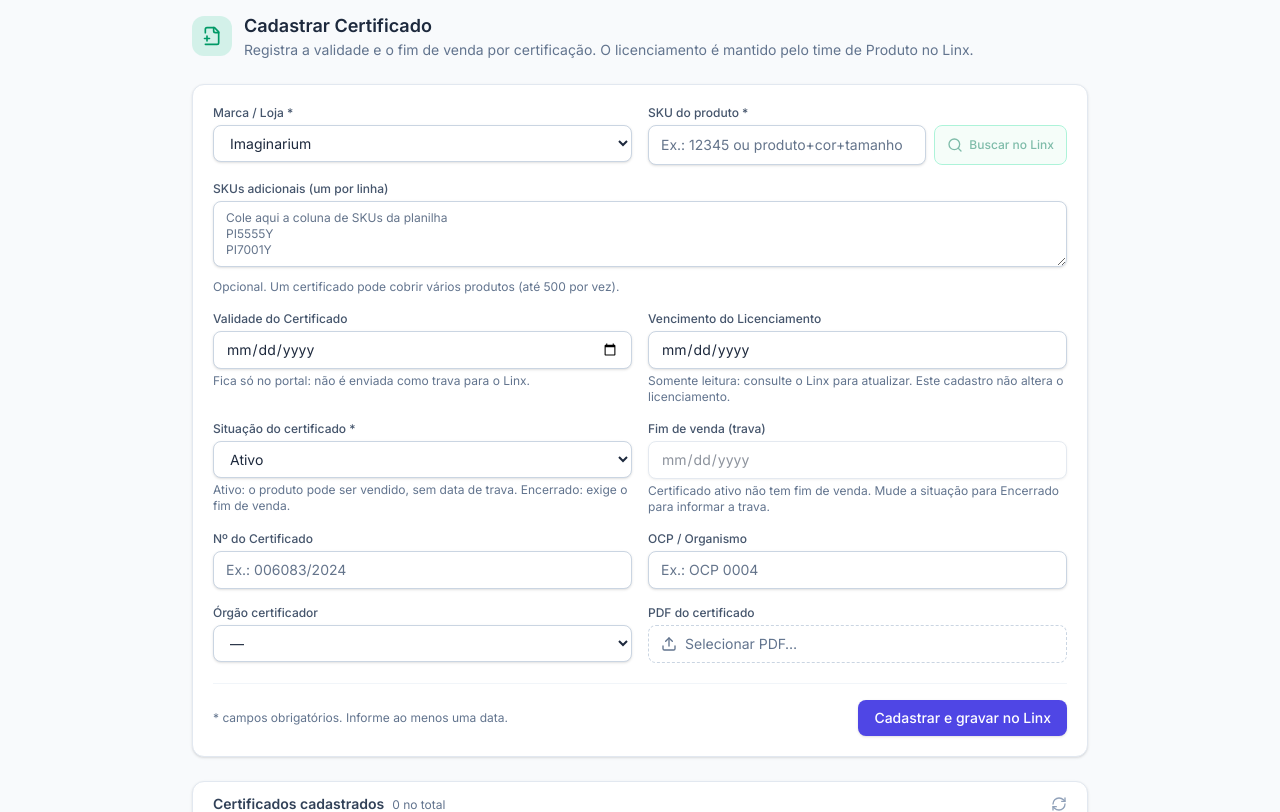
Test: CertCadastroPage Linx lookup › não usa o fim de venda legado do Linx para preencher a validade
The width and height of the screenshot is (1280, 812).
Type "100400496" into the field labelled "SKU do produto *" at (787, 145), box x1=648 y1=125 x2=926 y2=165
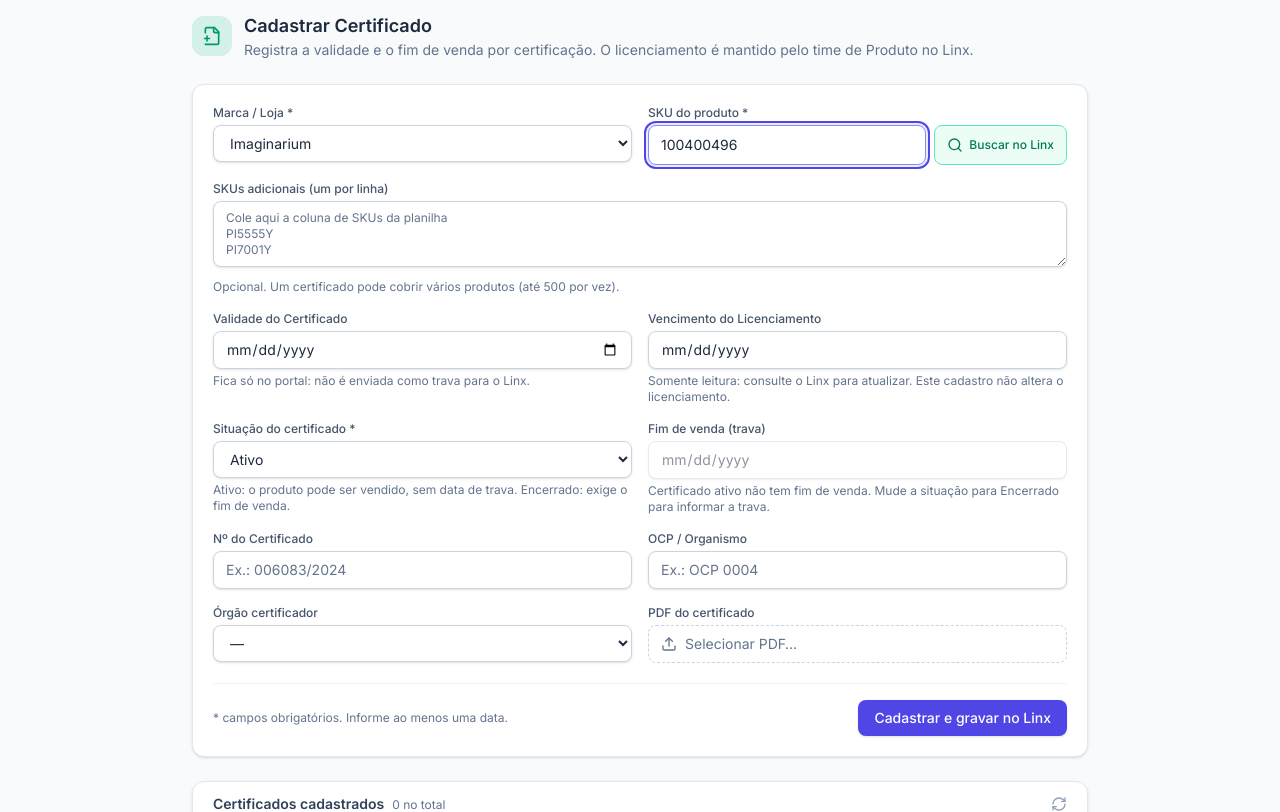
Click the button "Buscar no Linx" at (1001, 145), box x1=934 y1=125 x2=1067 y2=165
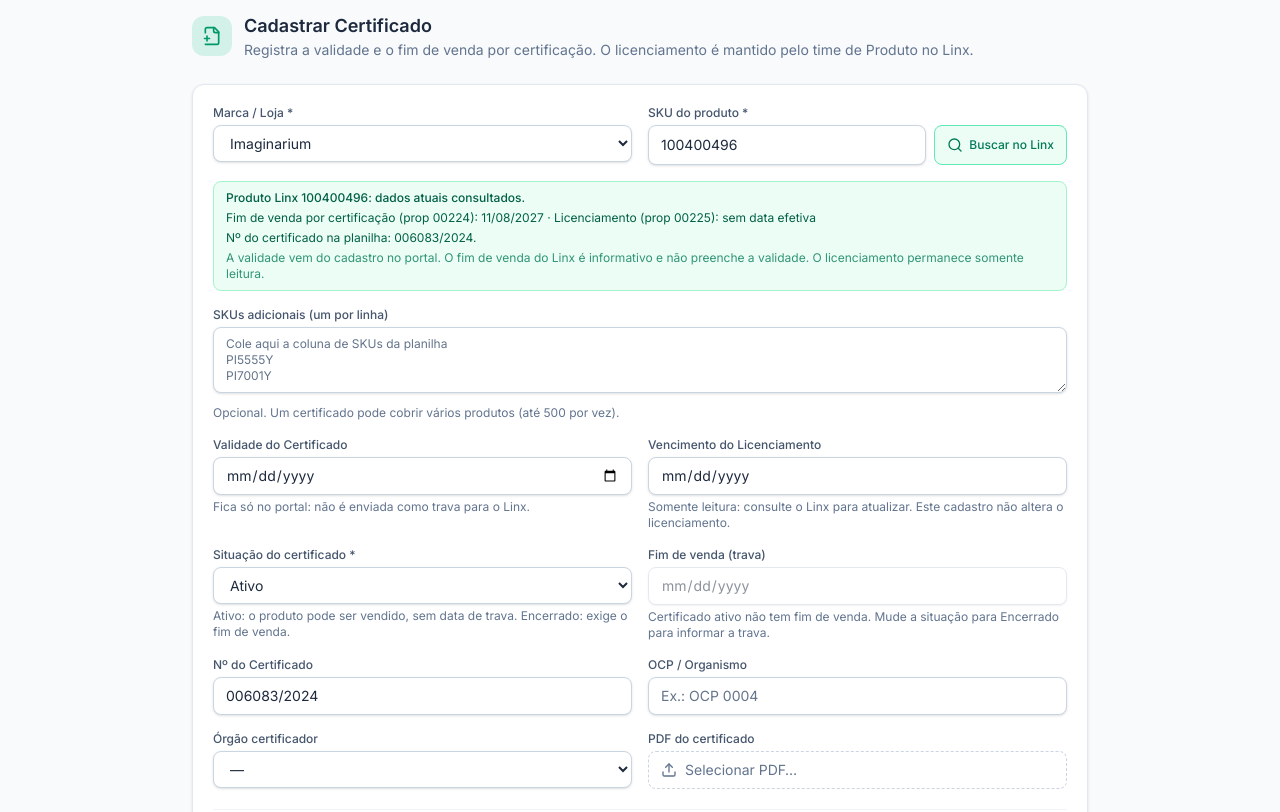
Expected: the date field labelled "Validade do Certificado" is empty, x1=213 y1=457 x2=632 y2=495
Result: the text "Produto Linx 100400496: dados atuais consultados." is shown at x1=226 y1=190 x2=525 y2=205
